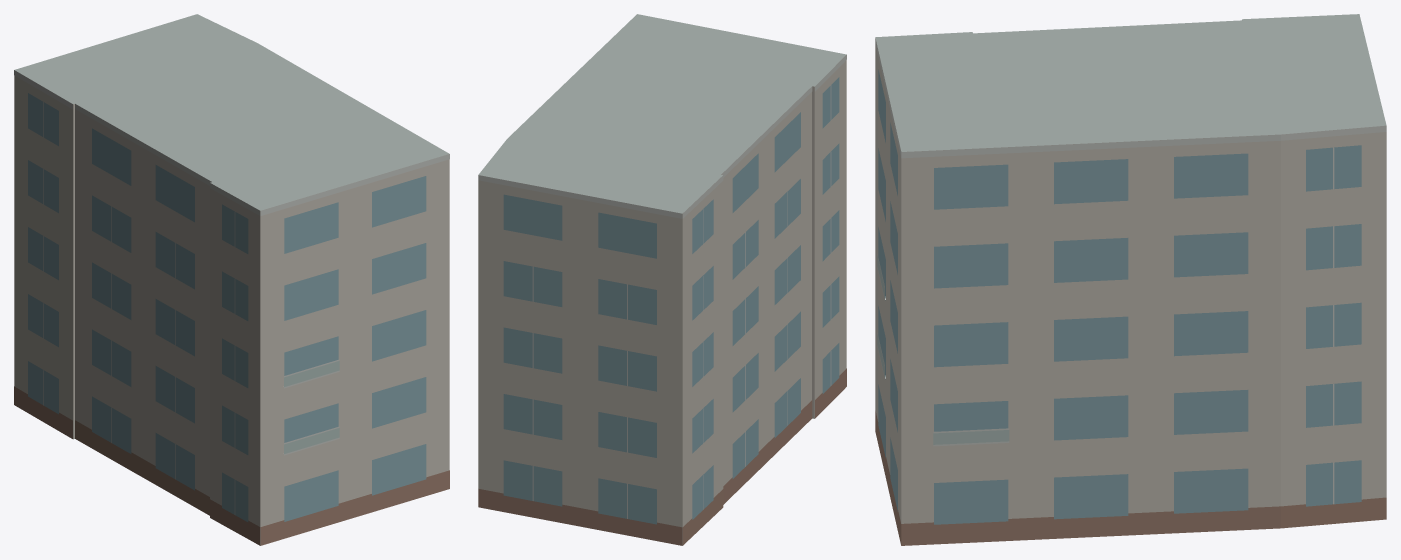
File: survey-upis-32569079.glb
3 views of the same model, side by side, from view 1: azimuth 30°, elevation 25°; view 2: azimuth 150°, elevation 25°; view 3: azimuth 270°, elevation 25° (orthographic). The views are drawn at different scales.
Visible parts, largest first — view 1: survey-upis-32569079.tmp; view 2: survey-upis-32569079.tmp; view 3: survey-upis-32569079.tmp.
Part boxes in pixels (left/top/right/bottom): survey-upis-32569079.tmp: left=14, top=14, right=449, bottom=545; survey-upis-32569079.tmp: left=478, top=14, right=846, bottom=545; survey-upis-32569079.tmp: left=875, top=14, right=1386, bottom=545.
Bounding box in the file's own units: 11.47 × 15.25 × 17.95.
